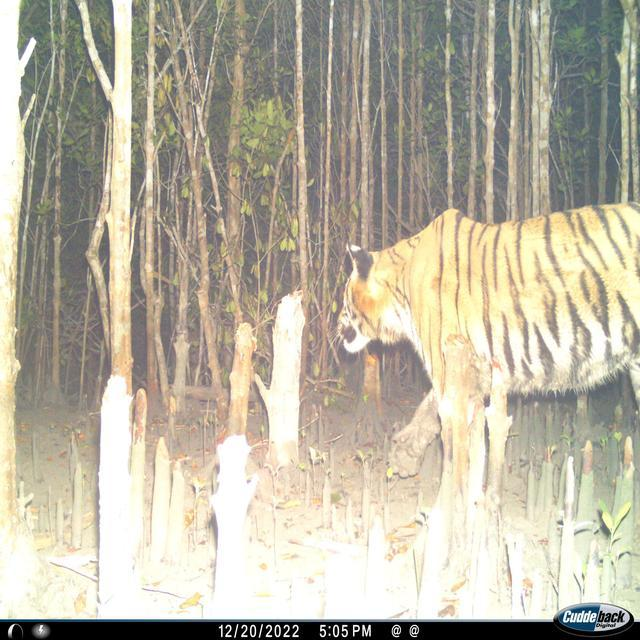tiger: (335, 200, 639, 616)
